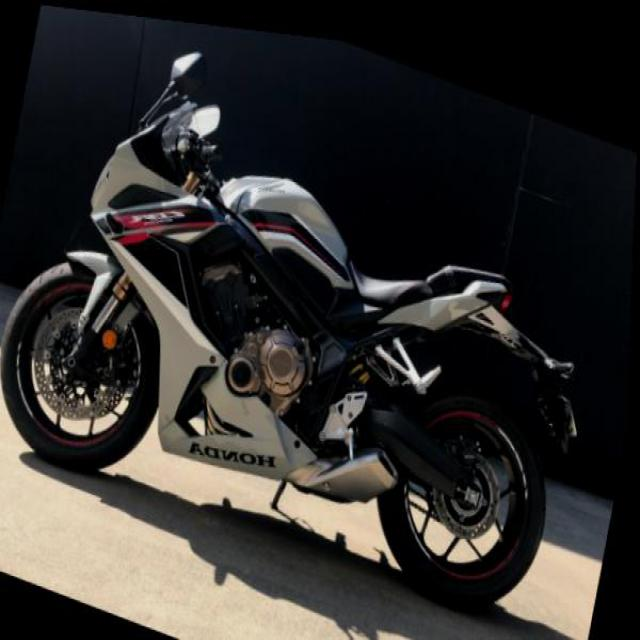CBR650R: (0, 32, 606, 638)
